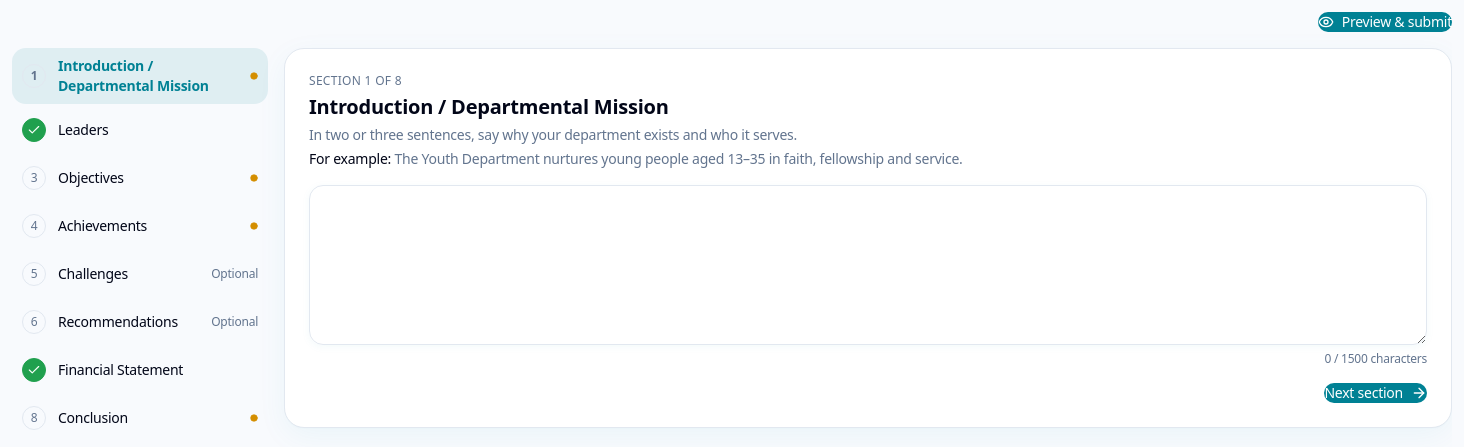
Test: text sections › labels the textarea by the section title, shows the hint, an example and a character counter
expect the text "say why your department exists" is shown: met, box top-left (309, 125), bottom-right (797, 144)
expect the text "For example:" is shown: met, box top-left (309, 149), bottom-right (394, 168)
Type "We look after the church buildings." into the text box labelled "Introduction / Departmental Mission".
click(868, 265); type("We look after the church buildings.")  # box top-left (309, 185), bottom-right (1427, 345)
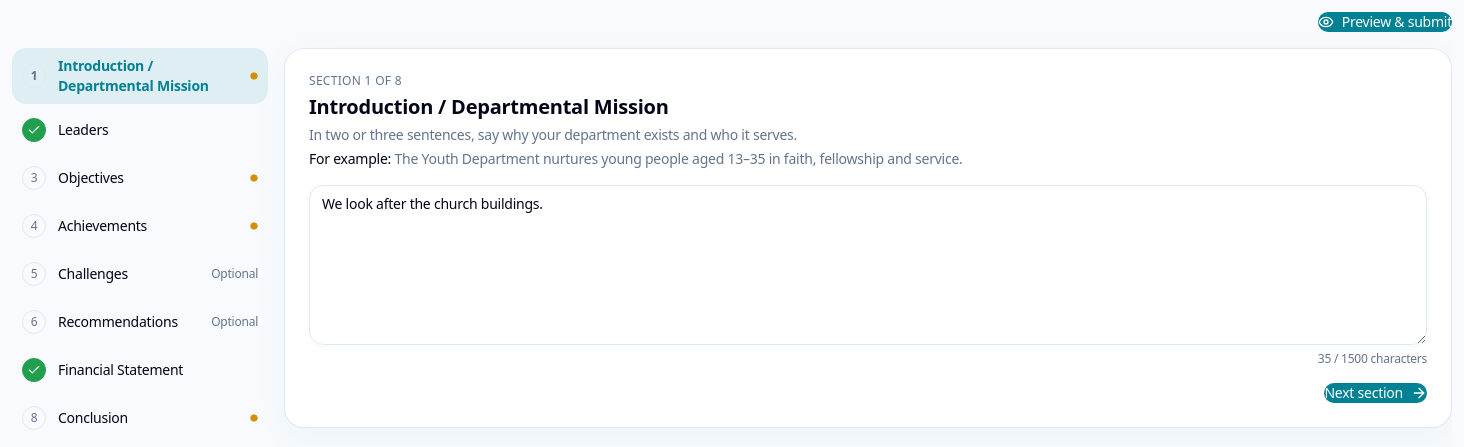
expect the text "35 / 1500 characters" is shown: met, box top-left (1318, 351), bottom-right (1427, 367)
